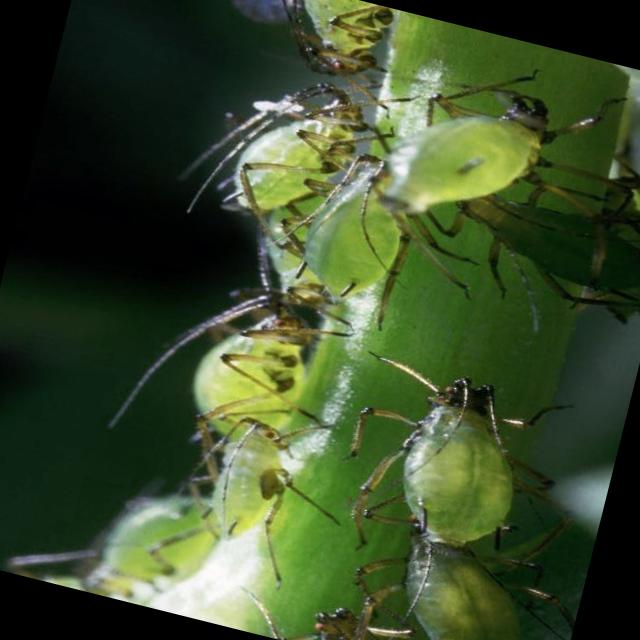aphid: (314, 308, 592, 560), (97, 236, 350, 464), (136, 42, 388, 266), (370, 49, 596, 254), (264, 119, 431, 335), (25, 452, 218, 617), (339, 513, 573, 640), (159, 390, 323, 567)
